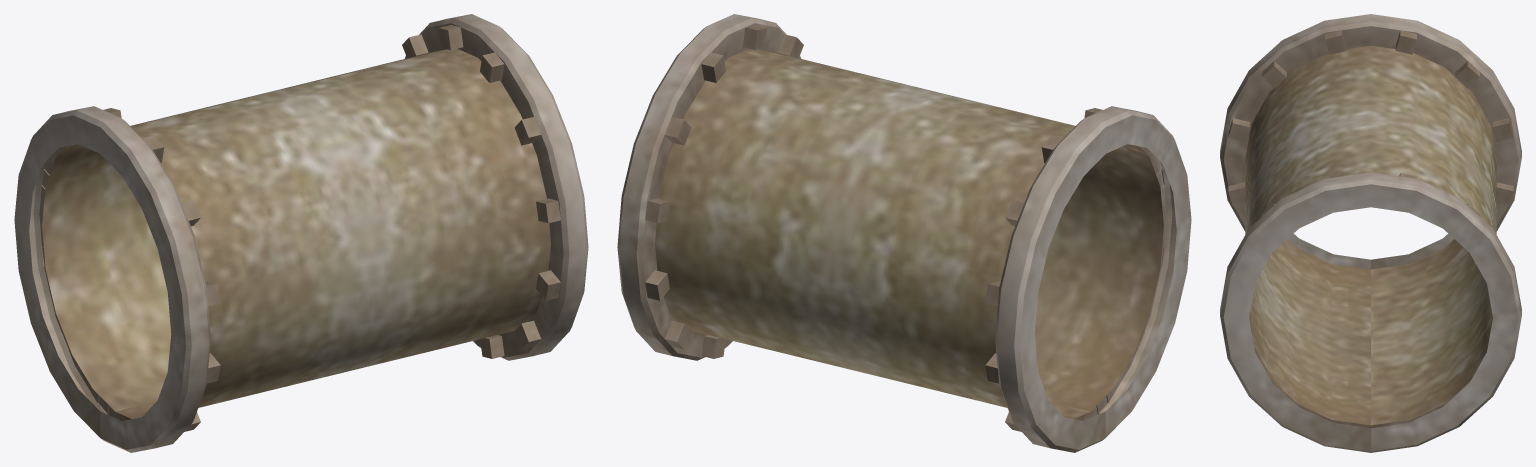
File: pipe-straight-horizontal.glb
3 renders of one model, left to right at view 1: azimuth 30°, elevation 25°; view 2: azimuth 150°, elevation 25°; view 3: azimuth 270°, elevation 25°, orthographic. The views are drawn at different scales.
Parts seen in each view (by area): view 1: body; view 2: body; view 3: body.
Boxes of the visible parts, bbox=[...] form: body: bbox=[14, 14, 588, 452]; body: bbox=[617, 14, 1191, 452]; body: bbox=[1220, 14, 1521, 452].
Size of the model in its own units: 1 by 0.756 by 0.756.
Materials: 1 (1 with a texture image).
